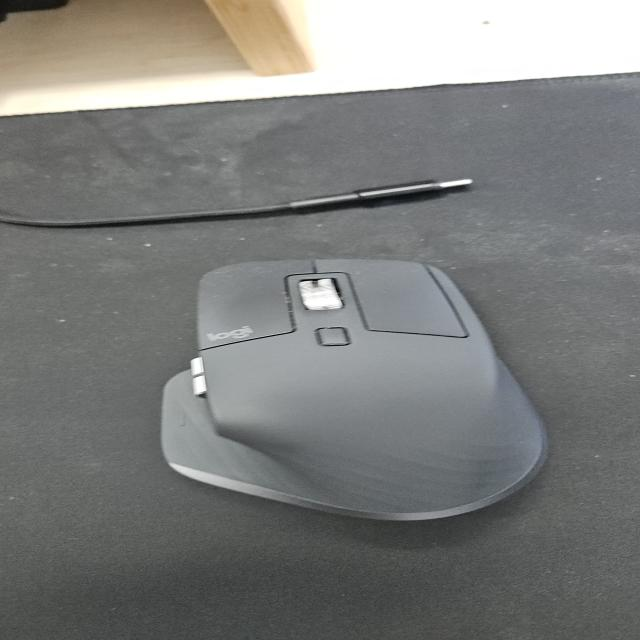Mouse: (156, 256, 550, 522)
